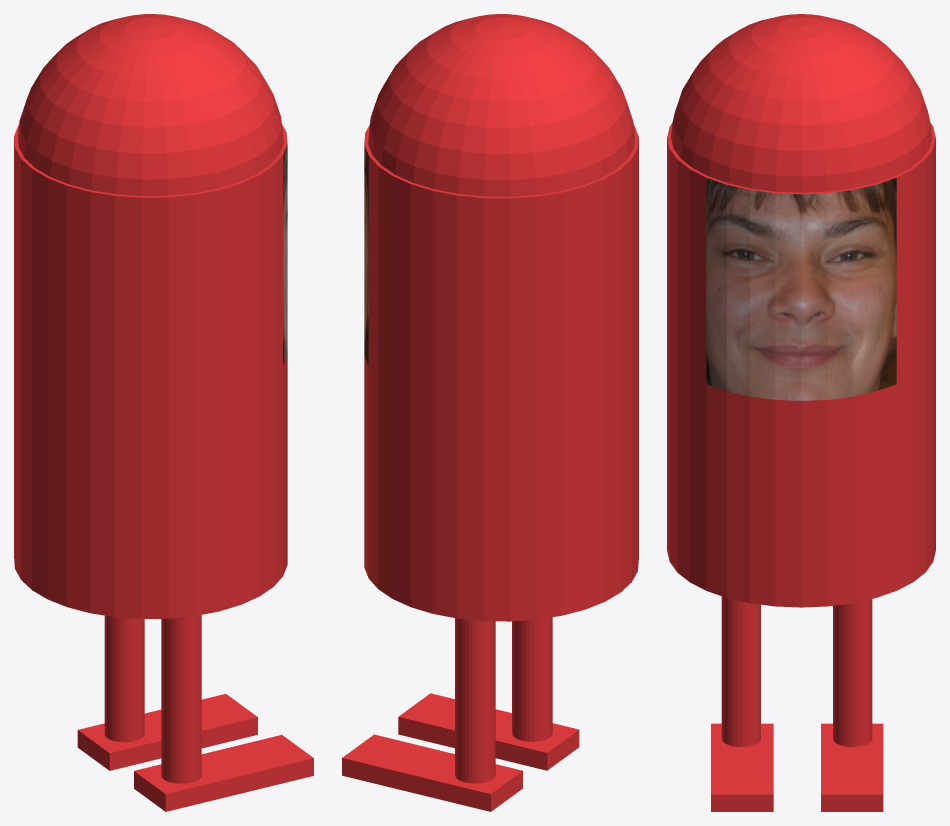
Rendered from npc-a.fbx.
The picture shows the model from 3 angles, left to right: view 1: azimuth 30°, elevation 25°; view 2: azimuth 150°, elevation 25°; view 3: azimuth 270°, elevation 25°; orthographic projection. The views are drawn at different scales.
Parts seen in each view (by area): view 1: NPC-A; view 2: NPC-A; view 3: NPC-A.
Part boxes in pixels (bbox=[...]): NPC-A: bbox=[14, 14, 313, 811]; NPC-A: bbox=[342, 14, 638, 811]; NPC-A: bbox=[667, 14, 935, 811].
Size of the model in its own units: 200 by 599 by 200.
Materials: 2 (1 with a texture image).
